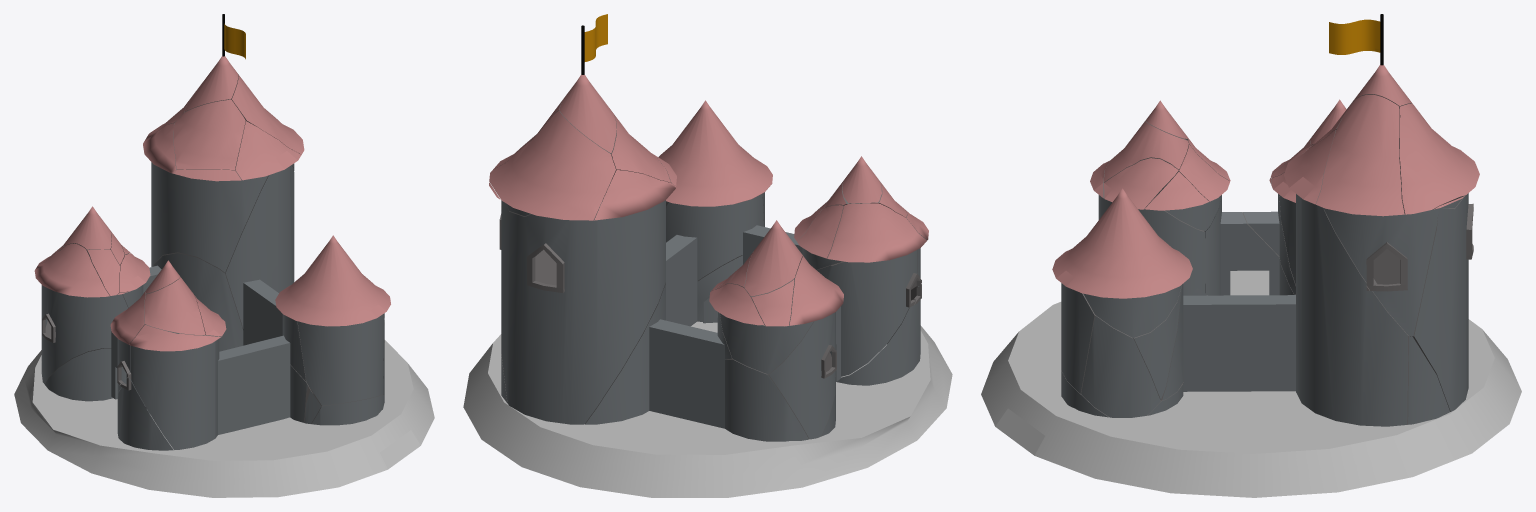
File: Castle_Broken.fbx
3 views of the same model, side by side, from view 1: azimuth 30°, elevation 25°; view 2: azimuth 150°, elevation 25°; view 3: azimuth 270°, elevation 25° (orthographic). The views are drawn at different scales.
Parts seen in each view (by area): view 1: Castle.024, Castle.001_cell.002, Castle.003_cell.004, Castle.004_cell.001, Castle.001_cell.006, Castle.020, Castle.006_cell.001, Castle.003_cell.005, Castle.021_cell.003, Castle.003_cell, Castle.001_cell, Castle.018_cell.004 (+20 smaller); view 2: Castle.024, Castle.001_cell.002, Castle.021_cell.008, Castle.006, Castle.003_cell, Castle.020, Castle.003_cell.005, Castle.003_cell.008, Castle.004_cell.006, Castle.019_cell.003, Castle.001_cell, Castle.003_cell.002 (+15 smaller); view 3: Castle.024, Castle.001_cell.006, Castle.006_cell, Castle.020, Castle.001_cell.002, Castle.021_cell, Castle.001_cell.008, Castle.021_cell.008, Castle.004_cell.002, Castle.003_cell, Castle.004_cell.008, Castle.004_cell.001 (+17 smaller).
Boxes of the visible parts, <box> form: Castle.024: <box>14,340,434,497</box>; Castle.001_cell.002: <box>151,162,268,273</box>; Castle.003_cell.004: <box>128,339,219,449</box>; Castle.004_cell.001: <box>297,314,384,405</box>; Castle.001_cell.006: <box>225,165,294,328</box>; Castle.020: <box>275,235,390,326</box>; Castle.006_cell.001: <box>219,335,290,434</box>; Castle.003_cell.005: <box>41,285,127,384</box>; Castle.021_cell.003: <box>173,99,245,170</box>; Castle.003_cell: <box>45,339,149,413</box>; Castle.001_cell: <box>153,253,243,351</box>; Castle.018_cell.004: <box>34,243,109,297</box>; Castle.024: <box>463,321,952,497</box>; Castle.001_cell.002: <box>501,200,665,424</box>; Castle.021_cell.008: <box>489,110,615,220</box>; Castle.006: <box>649,231,799,428</box>; Castle.003_cell: <box>817,250,921,436</box>; Castle.020: <box>658,100,772,206</box>; Castle.003_cell.005: <box>767,312,836,439</box>; Castle.003_cell.008: <box>725,359,808,441</box>; Castle.004_cell.006: <box>666,193,763,281</box>; Castle.019_cell.003: <box>827,203,926,262</box>; Castle.001_cell: <box>585,283,665,424</box>; Castle.003_cell.002: <box>720,313,813,374</box>; Castle.024: <box>981,270,1521,497</box>; Castle.001_cell.006: <box>1296,194,1409,426</box>; Castle.006_cell: <box>1183,304,1295,391</box>; Castle.020: <box>1052,188,1192,298</box>; Castle.001_cell.002: <box>1296,193,1473,411</box>; Castle.021_cell: <box>1316,94,1404,216</box>; Castle.001_cell.008: <box>1323,208,1438,336</box>; Castle.021_cell.008: <box>1399,103,1479,214</box>; Castle.004_cell.002: <box>1081,316,1160,417</box>; Castle.003_cell: <box>1204,195,1294,295</box>; Castle.004_cell.008: <box>1083,285,1181,337</box>; Castle.004_cell.001: <box>1061,283,1096,393</box>.
Bounding box in the file's own units: 13.28 × 12.08 × 14.45.
